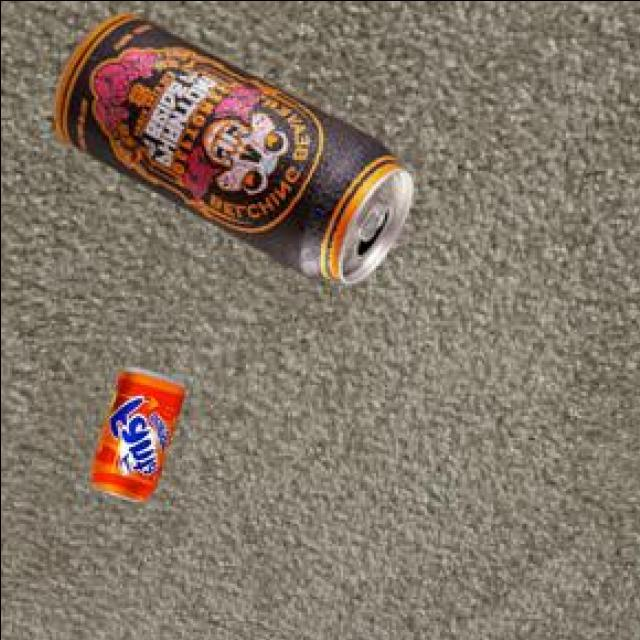logam: (50, 17, 409, 286), (87, 370, 180, 504)
